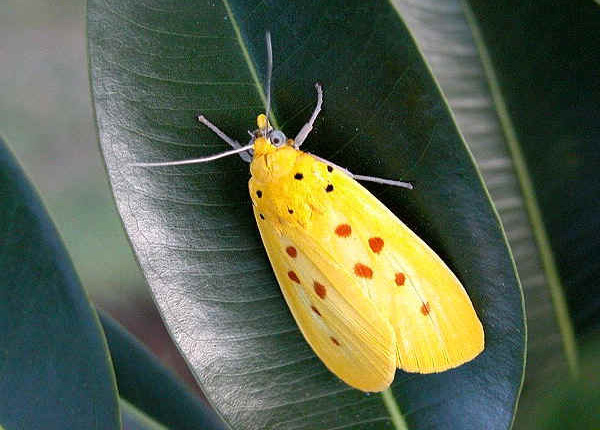Agape chloropyga: (117, 32, 486, 402)
moth: (119, 30, 488, 400)
